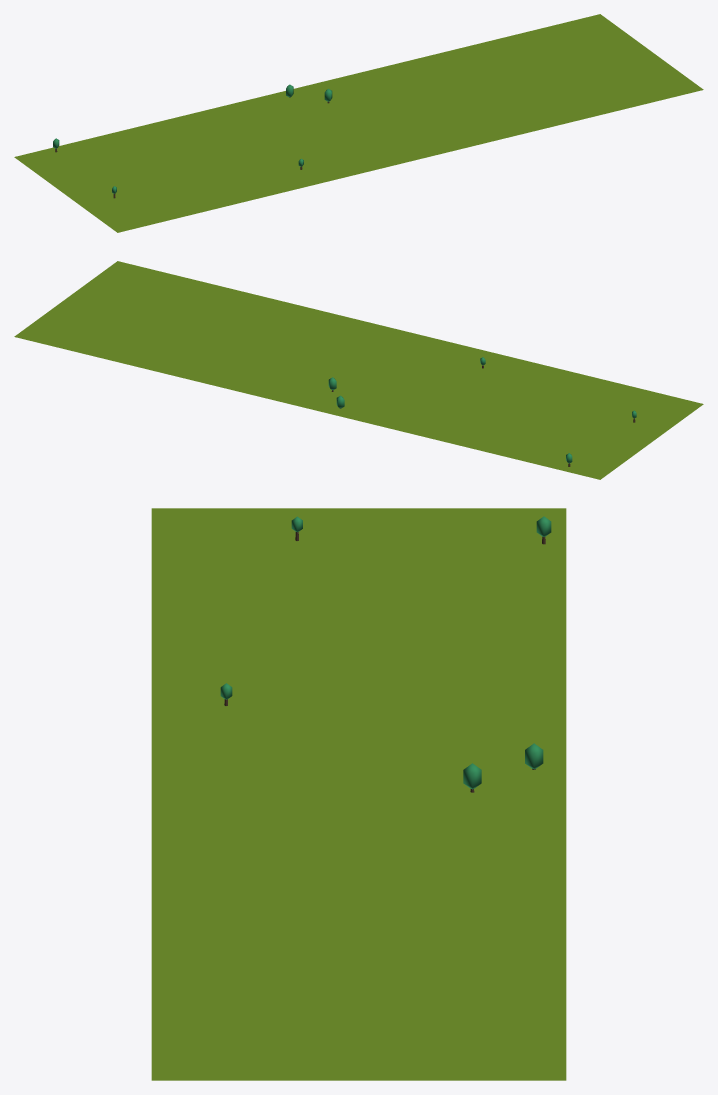
The model's file is nature_right2.glb.
3 renders of one model, top to bottom at view 1: azimuth 30°, elevation 25°; view 2: azimuth 150°, elevation 25°; view 3: azimuth 270°, elevation 25°, orthographic. The views are drawn at different scales.
Bounding box in the file's own units: 98 × 2.38 × 30.
